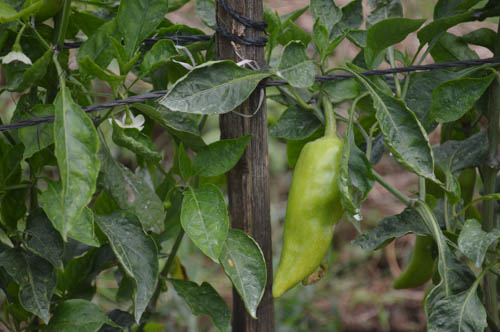ChiliPepper: (272, 140, 349, 307)
